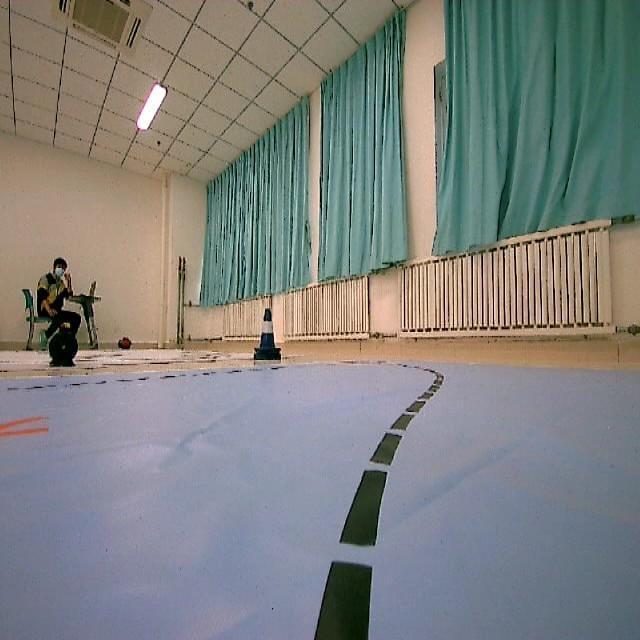obstacle: (248, 306, 286, 369)
